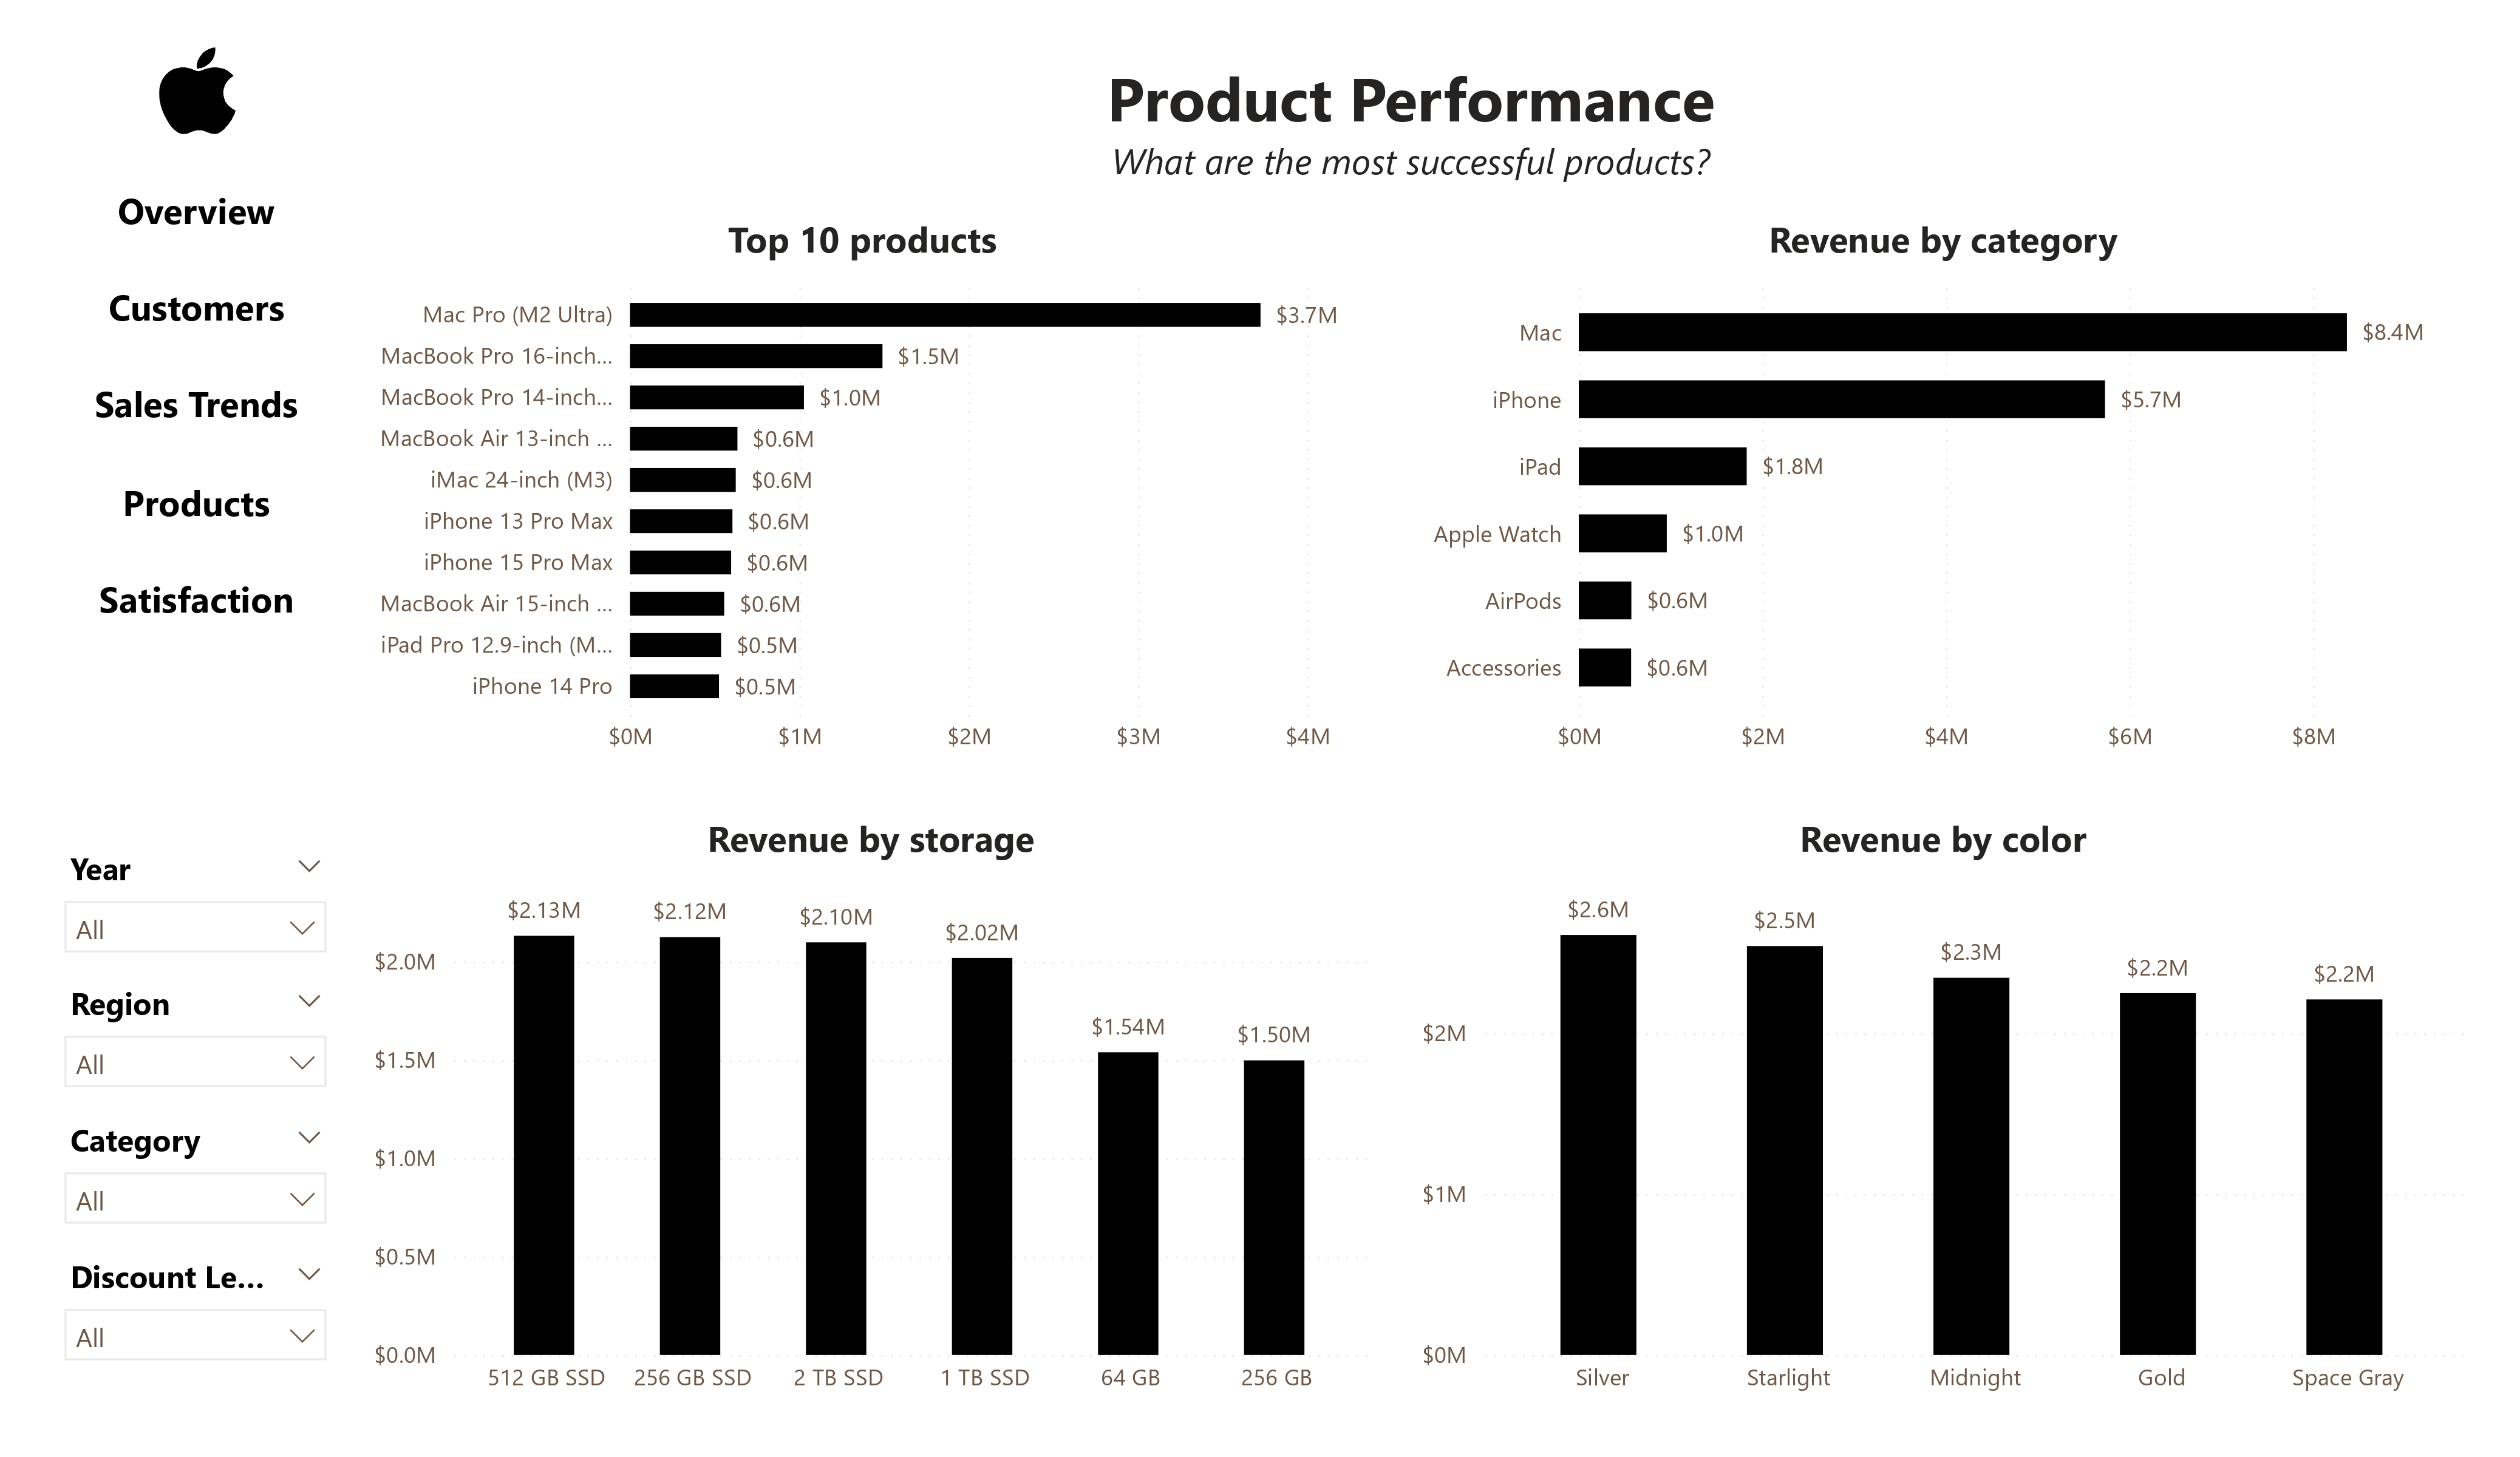

Layout of this report page (visuals, bound fields, positions):
{"tool":"powerbi","page":{"name":"Products","canvas":[1280,720],"ordinal":3},"visuals":[{"type":"textbox","box":[158.9,0,1121.5,86.8],"z":0},{"type":"slicer","fields":{"Values":["public sales.year"]},"box":[0,417.9,158.5,70.8],"z":1000},{"type":"image","box":[40.6,0,77.8,51.8],"z":2000},{"type":"slicer","fields":{"Values":["public customers.region"]},"box":[0,488.7,158.5,72],"z":3000},{"type":"slicer","fields":{"Values":["public products.category"]},"box":[0,560.8,158.5,72],"z":4000},{"type":"slicer","fields":{"Values":["public sales.discount_level"]},"box":[0,632.8,158.5,72],"z":5000},{"type":"actionButton","box":[0,60.9,158.9,51.8],"z":6000},{"type":"actionButton","box":[0,112.7,158.9,50.7],"z":7000},{"type":"actionButton","box":[0,163.4,158.9,51.8],"z":8000},{"type":"actionButton","box":[0,215.3,158.9,50.7],"z":9000},{"type":"actionButton","box":[0,266,158.9,51.8],"z":10000},{"type":"barChart","fields":{"Category":["Products.category"],"Y":["Sum(Sales.revenue_usd)"]},"box":[720.2,89.3,560.1,292.3],"z":11000},{"type":"barChart","title":"Top 10 products","fields":{"Category":["Products.product_name"],"Y":["Sum(Sales.revenue_usd)"]},"box":[159,89.3,542.9,292.3],"z":12000},{"type":"columnChart","fields":{"Category":["Products.storage"],"Y":["Sum(Sales.revenue_usd)"]},"box":[167.5,404.8,534.4,315.5],"z":13000},{"type":"columnChart","fields":{"Category":["Products.color"],"Y":["Sum(Sales.revenue_usd)"]},"box":[720.2,404.8,560.1,315.5],"z":14000}]}

Visuals, with their boxes on the page's 1280x720 design canvas (x1, y1, x2, y2). These are canvas units, not pixel positions in the 2520x1457 screenshot, which may show the page scaled, cropped or inside an application window:
textbox: detection(159, 0, 1280, 87)
slicer - public sales.year: detection(0, 418, 158, 489)
image: detection(41, 0, 118, 52)
slicer - public customers.region: detection(0, 489, 158, 561)
slicer - public products.category: detection(0, 561, 158, 633)
slicer - public sales.discount_level: detection(0, 633, 158, 705)
actionButton: detection(0, 61, 159, 113)
actionButton: detection(0, 113, 159, 163)
actionButton: detection(0, 163, 159, 215)
actionButton: detection(0, 215, 159, 266)
actionButton: detection(0, 266, 159, 318)
barChart - Products.category x Sum(Sales.revenue_usd): detection(720, 89, 1280, 382)
"Top 10 products" barChart: detection(159, 89, 702, 382)
columnChart - Products.storage x Sum(Sales.revenue_usd): detection(168, 405, 702, 720)
columnChart - Products.color x Sum(Sales.revenue_usd): detection(720, 405, 1280, 720)
